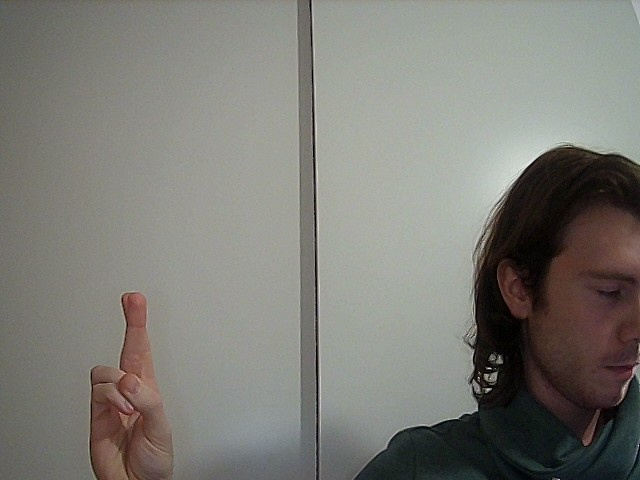r: (73, 284, 197, 479)
